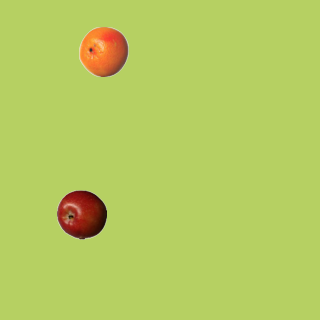Apple Braeburn: (56, 189, 106, 239)
Grapefruit Pink: (78, 26, 128, 76)
